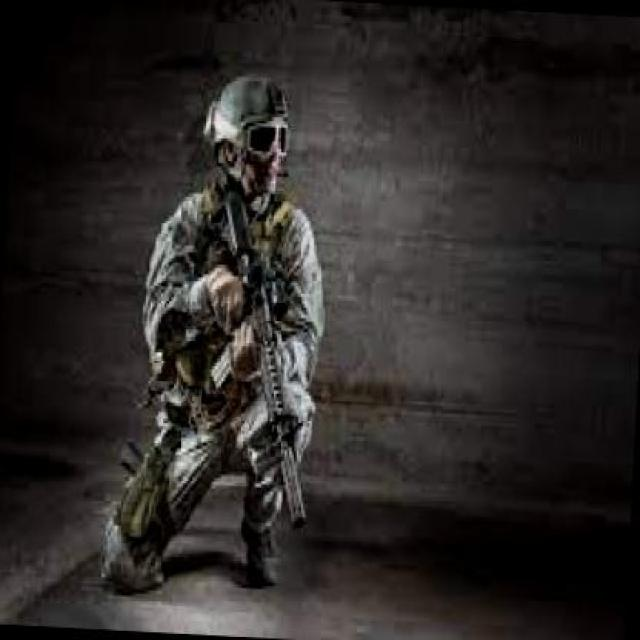MIL_Pax: (90, 66, 336, 605)
